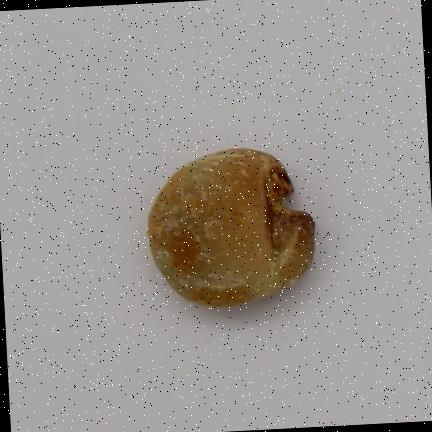cut: (149, 149, 313, 305)
